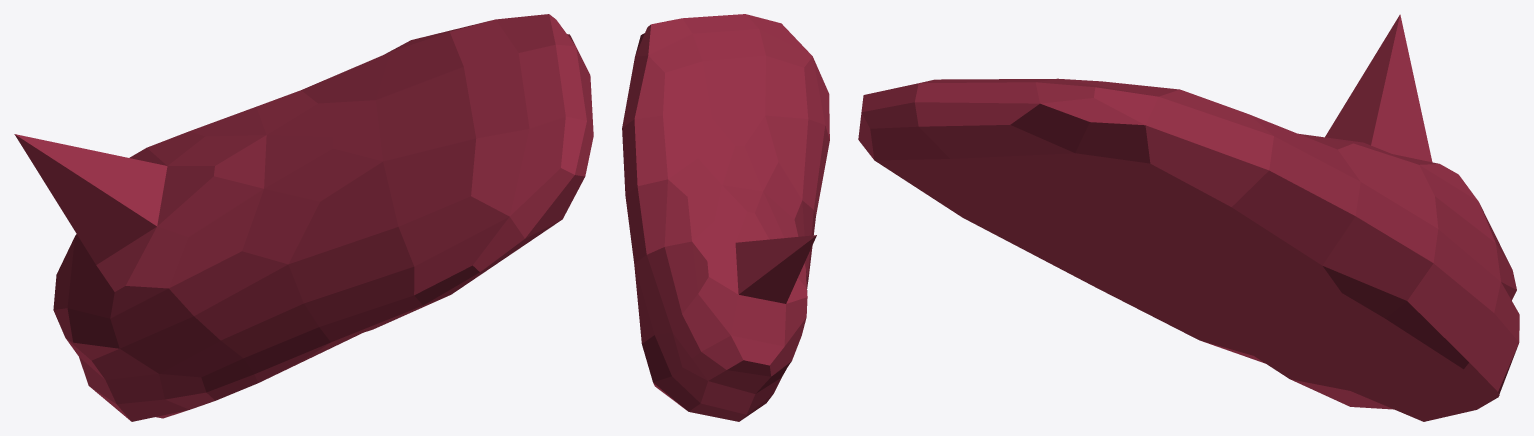
File: right_foot.obj
3 views of the same model, side by side, from view 1: azimuth 30°, elevation 25°; view 2: azimuth 150°, elevation 25°; view 3: azimuth 270°, elevation 25° (orthographic). The views are drawn at different scales.
Parts seen in each view (by area): view 1: right_foot; view 2: right_foot; view 3: right_foot.
Boxes of the visible parts, left/top/right/bottom form: right_foot: left=14, top=14, right=593, bottom=421; right_foot: left=622, top=14, right=829, bottom=421; right_foot: left=858, top=14, right=1519, bottom=421.
Size of the model in its own units: 0.4281 by 0.4302 by 0.5432.
